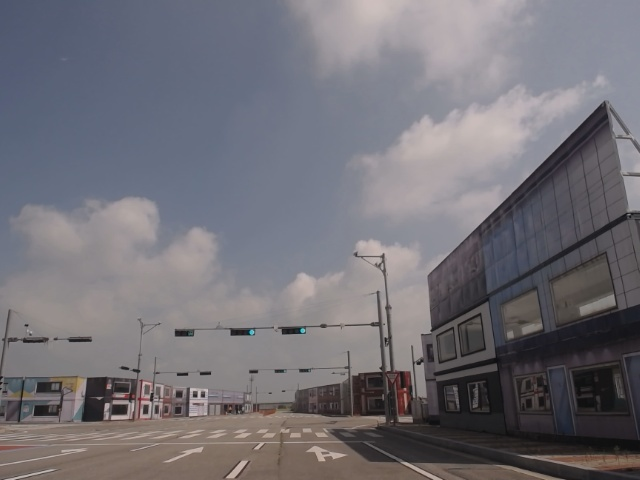straight_green_4: (230, 328, 258, 337), (282, 326, 308, 335)
